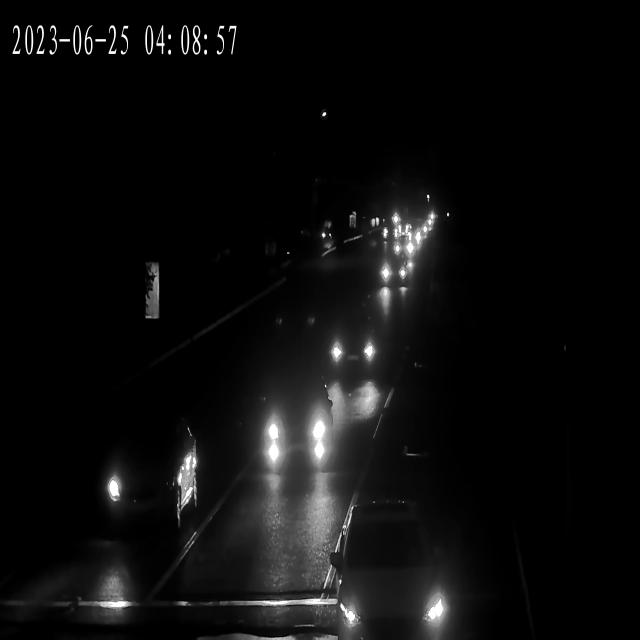Car: (329, 518, 454, 638), (96, 416, 205, 536), (251, 381, 332, 468), (316, 316, 381, 372), (375, 260, 408, 289), (390, 238, 416, 258), (392, 236, 416, 255), (379, 229, 399, 244), (407, 230, 427, 244)
